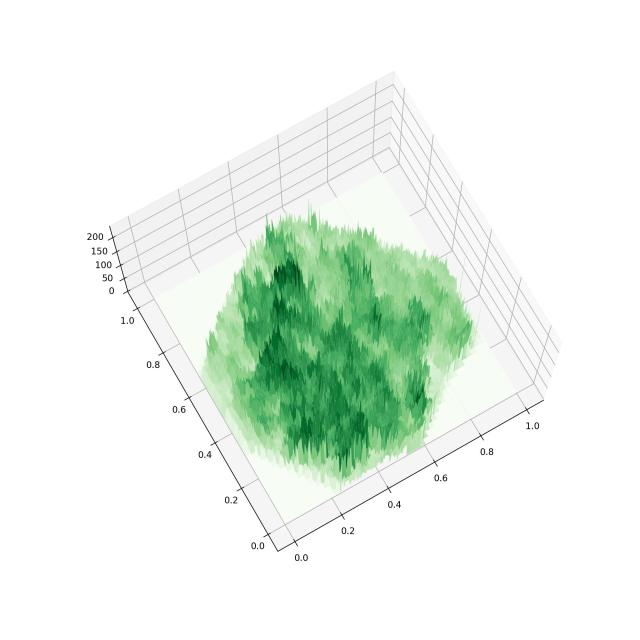fir: (45, 39, 568, 584)
